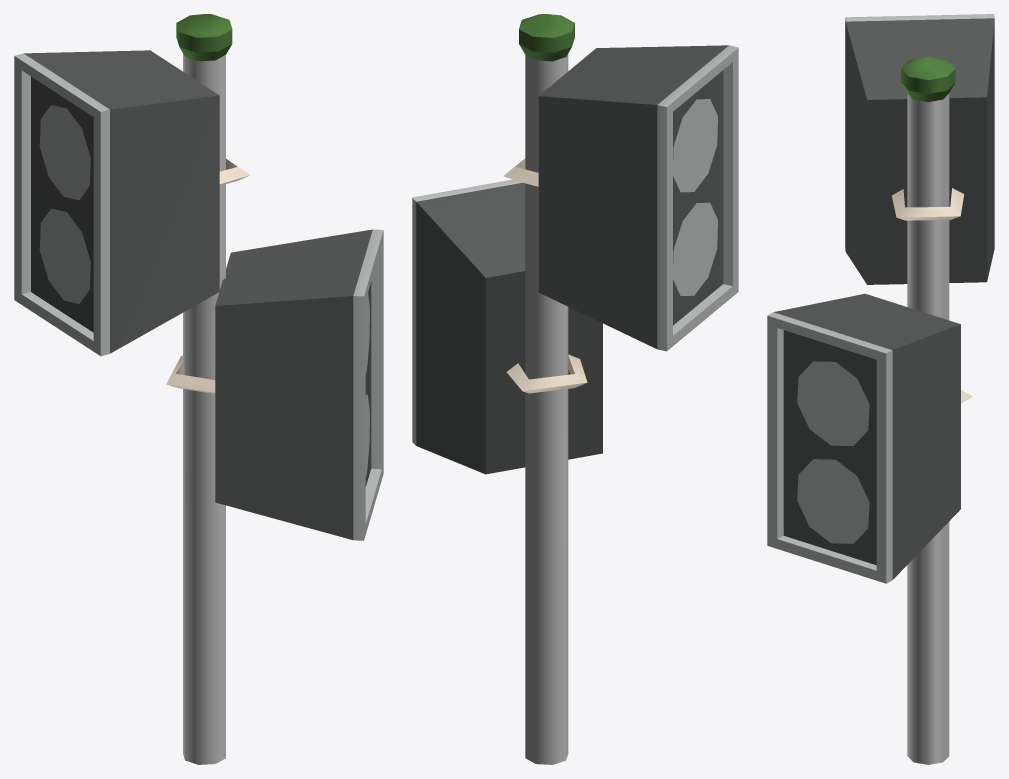
The model's file is SpeakerPost_Art.fbx.
3 views of the same model, side by side, from view 1: azimuth 30°, elevation 25°; view 2: azimuth 150°, elevation 25°; view 3: azimuth 270°, elevation 25° (orthographic). The views are drawn at different scales.
Parts seen in each view (by area): view 1: Oktoberfest_SpeakerPost; view 2: Oktoberfest_SpeakerPost; view 3: Oktoberfest_SpeakerPost.
Part boxes in pixels (x1,y1,x2,y2): Oktoberfest_SpeakerPost: (14,14,383,764); Oktoberfest_SpeakerPost: (412,14,738,764); Oktoberfest_SpeakerPost: (767,14,994,764).
Bounding box in the file's own units: 252 × 573 × 169.
